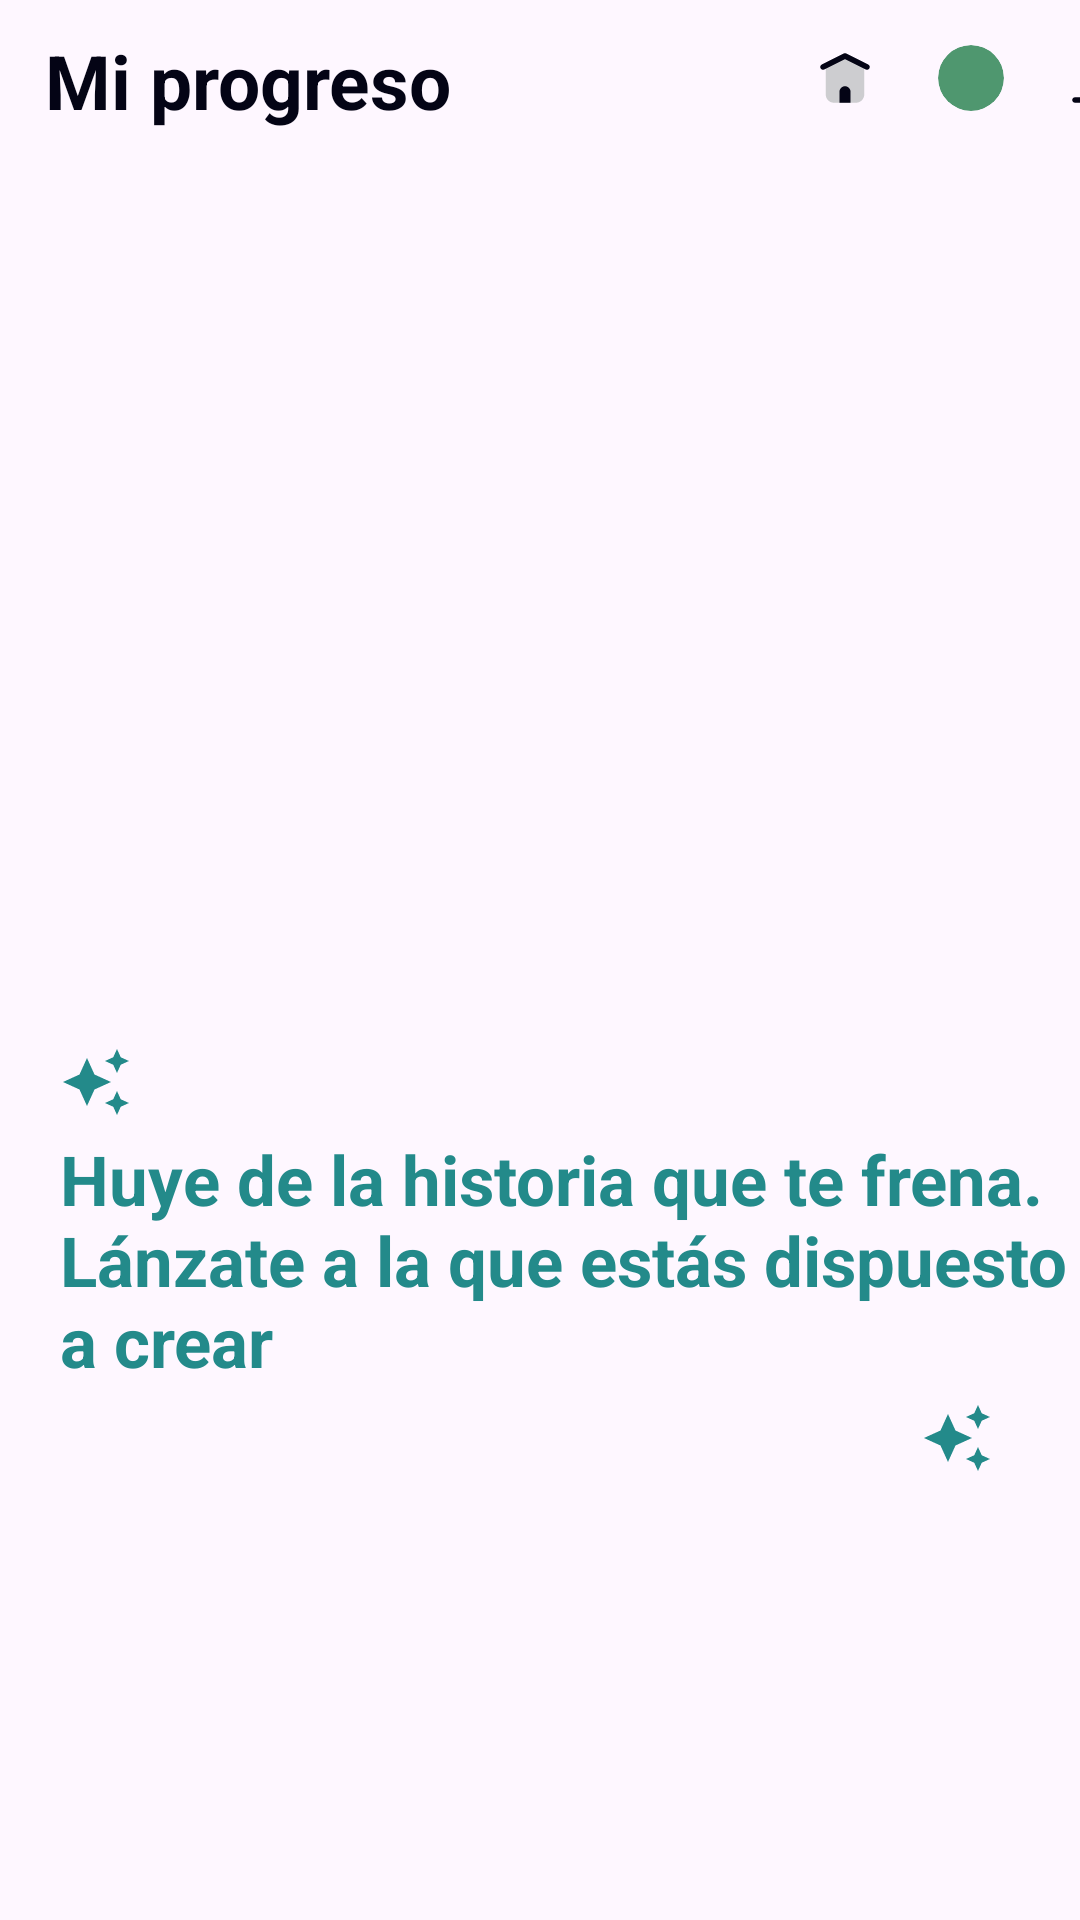

Where to tap for icons on this 1080*1920 app screen, as (x=x, y=y):
auto awesome: (x=96, y=1082), (x=957, y=1438)
home: (x=845, y=78)
